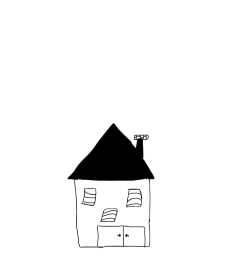bottom_placed_house: (3, 4, 234, 260)
chimney: (131, 130, 156, 163)
closed_window: (98, 203, 122, 226), (80, 183, 98, 210), (125, 185, 145, 209)
door: (92, 223, 149, 251)
shaded_roof: (60, 121, 165, 185)
small_house: (0, 0, 234, 260)
wall: (71, 175, 157, 252)
